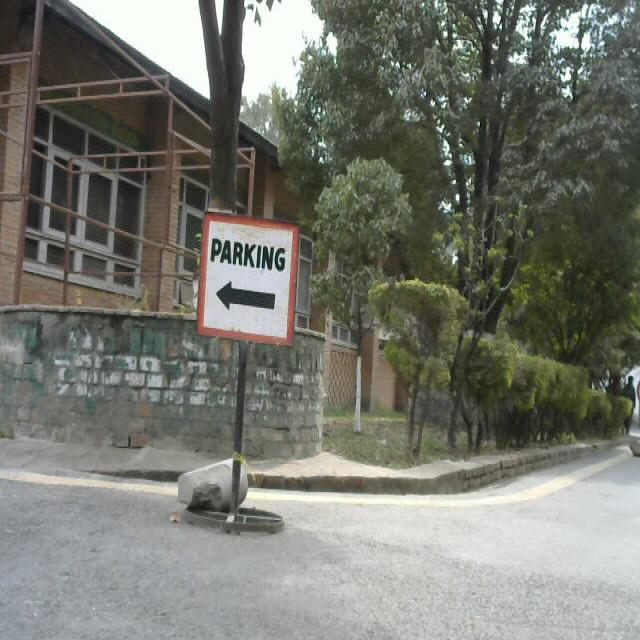Parking: (179, 212, 332, 567)
Road: (10, 475, 640, 640)
trees: (333, 0, 640, 450)
